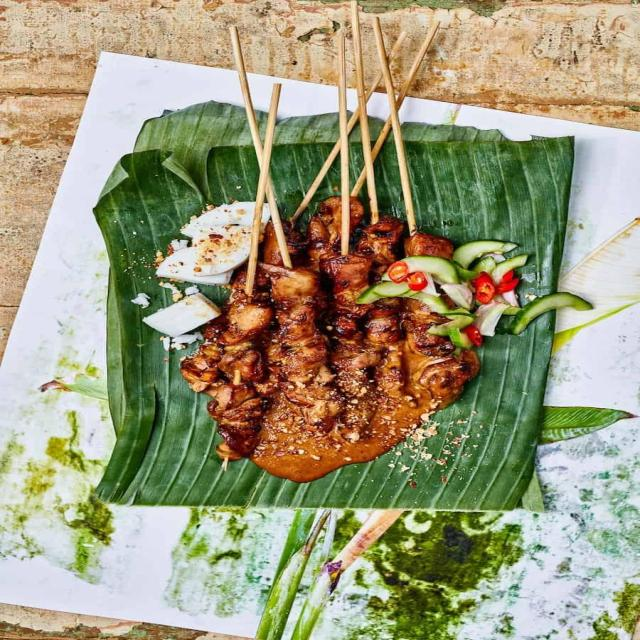Sate: (121, 33, 510, 460)
